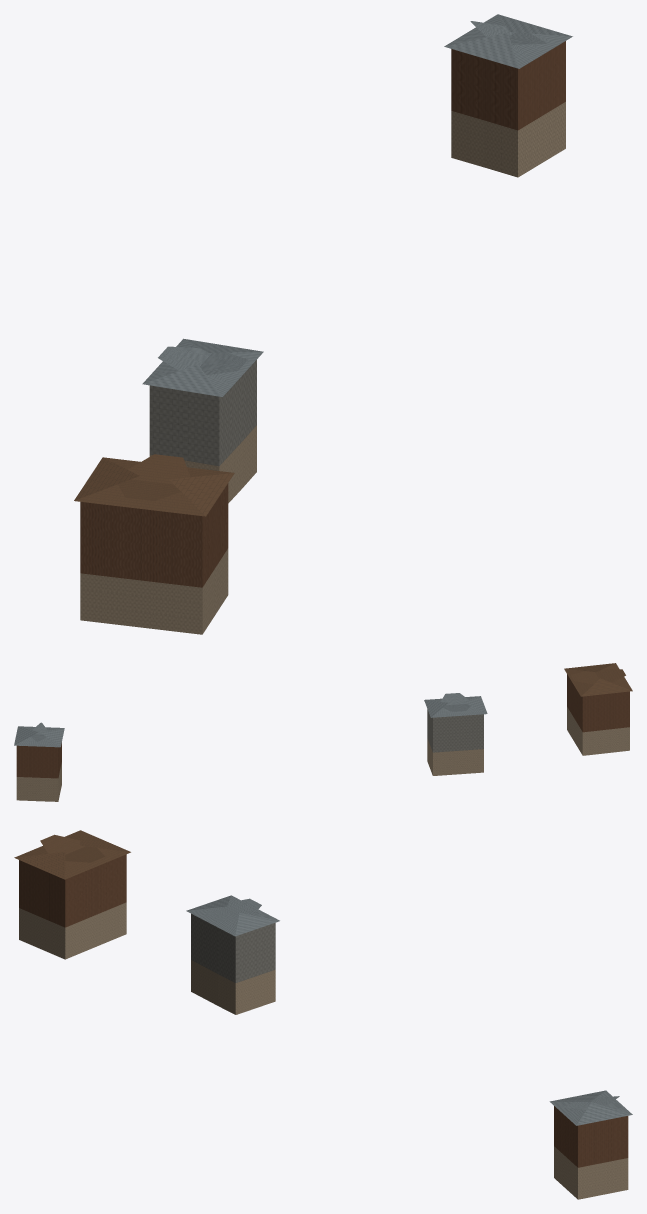
File: bld_c20_31_370.gltf
3 renders of one model, top to bottom at view 1: azimuth 30°, elevation 25°; view 2: azimuth 150°, elevation 25°; view 3: azimuth 270°, elevation 25°, orthographic. The views are drawn at different scales.
Visible parts, largest first — view 1: bld_c20_31_370; view 2: bld_c20_31_370; view 3: bld_c20_31_370.
Part boxes in pixels (bbox=[...]): bld_c20_31_370: bbox=[74, 14, 572, 634]; bld_c20_31_370: bbox=[14, 663, 632, 801]; bld_c20_31_370: bbox=[14, 830, 632, 1199].
Bounding box in the file's own units: 98.12 × 14.8 × 89.63.
5 materials, 5 textured.
